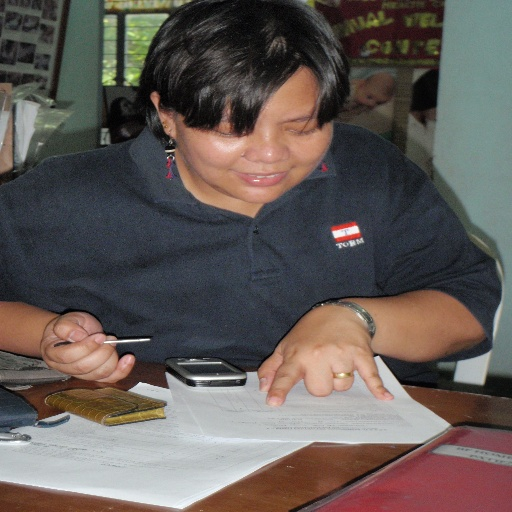hand: (252, 304, 396, 409), (30, 317, 134, 384)
